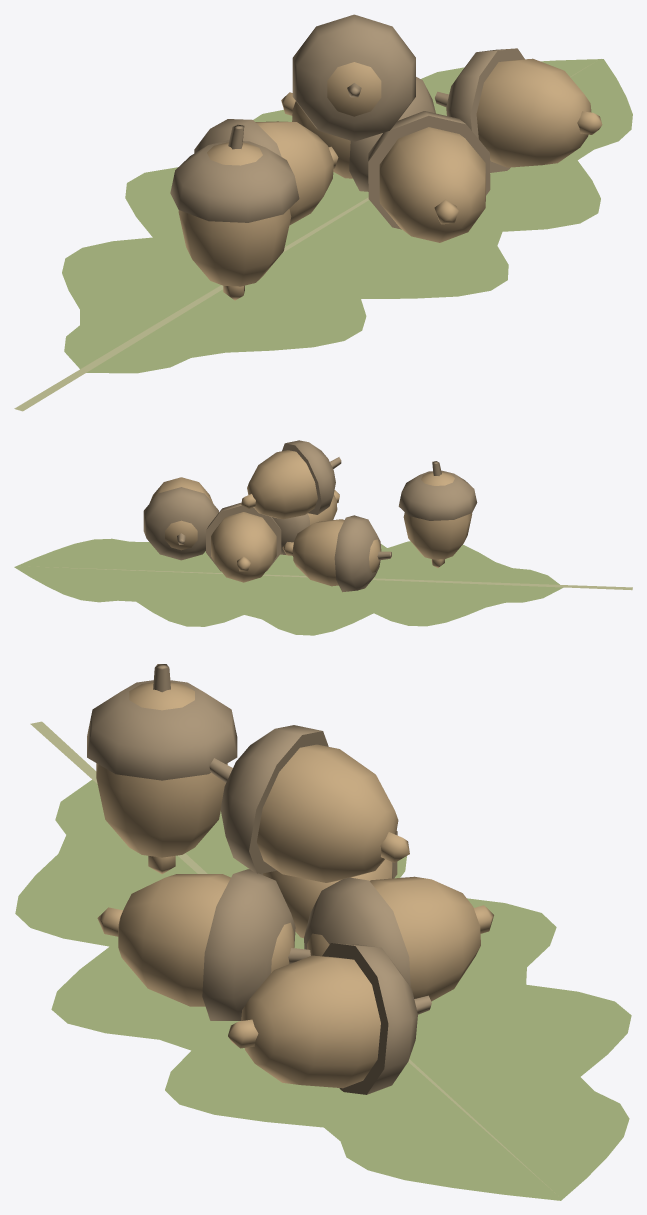
The model's file is plant-acorns.glb.
3 views of the same model, one above another, from view 1: azimuth 30°, elevation 25°; view 2: azimuth 150°, elevation 25°; view 3: azimuth 270°, elevation 25° (orthographic). The views are drawn at different scales.
Parts seen in each view (by area): view 1: Pile; view 2: Pile; view 3: Pile.
Boxes of the visible parts, x1,y1,x2,y2 form: Pile: (14, 14, 632, 411); Pile: (14, 440, 632, 635); Pile: (15, 664, 631, 1200).
Size of the model in its own units: 0.2044 by 0.0511 by 0.1116.
